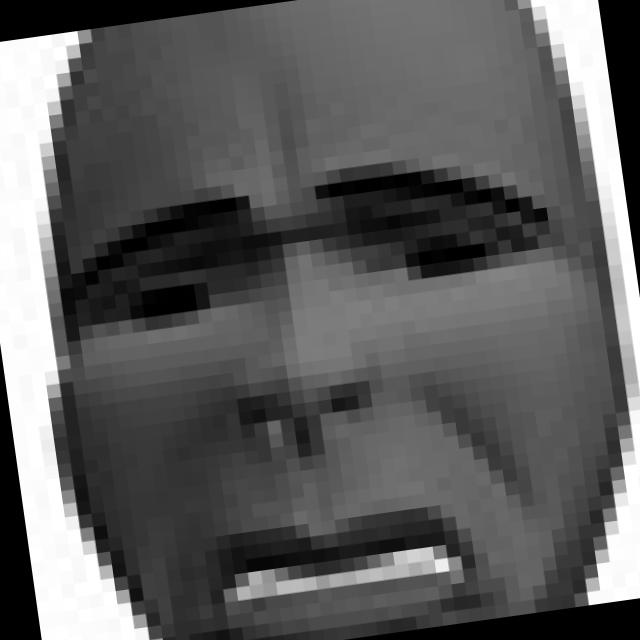disgust: (62, 138, 607, 640)
